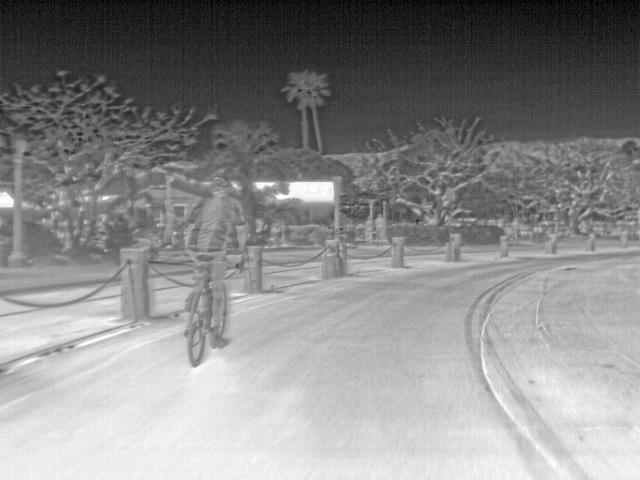person: (188, 169, 251, 347), (373, 211, 388, 244), (362, 214, 376, 244)
